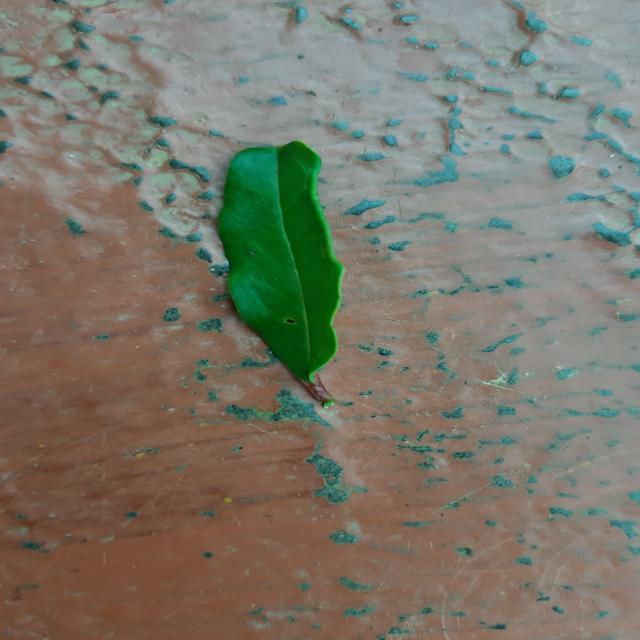pomgranate: (218, 141, 344, 408)
